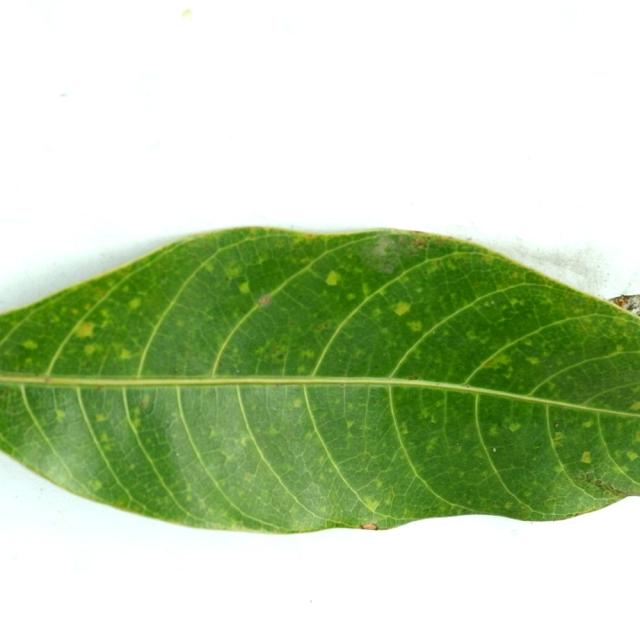Mango: (0, 228, 639, 532)
Powdery_Mildew: (585, 477, 628, 497), (390, 300, 417, 316), (265, 345, 288, 362), (74, 321, 96, 338), (490, 353, 511, 367), (223, 263, 240, 279), (325, 270, 341, 286), (219, 448, 235, 463), (410, 237, 429, 249), (118, 346, 134, 360), (364, 497, 380, 511), (256, 294, 272, 308), (312, 320, 332, 331), (20, 339, 38, 350), (83, 344, 99, 356), (237, 280, 250, 294), (426, 436, 439, 450), (407, 320, 422, 332), (361, 281, 372, 297), (299, 231, 320, 239), (300, 349, 315, 360), (580, 451, 592, 464), (128, 298, 141, 310), (238, 434, 250, 447), (544, 381, 557, 393), (197, 498, 209, 511), (266, 425, 280, 436), (359, 522, 378, 530), (54, 409, 66, 421), (243, 472, 256, 483), (525, 356, 540, 365), (487, 425, 499, 436), (553, 432, 565, 443), (203, 262, 215, 273), (508, 422, 521, 432), (208, 427, 219, 438), (131, 417, 141, 429), (371, 307, 382, 317), (296, 364, 307, 374), (466, 330, 477, 340), (95, 413, 107, 422), (399, 423, 408, 435), (509, 297, 521, 306), (293, 398, 303, 408), (345, 419, 355, 429), (92, 480, 102, 490), (100, 309, 110, 319), (304, 431, 314, 441), (23, 357, 33, 367), (182, 8, 192, 18), (616, 296, 626, 306), (582, 419, 593, 428), (0, 390, 9, 401), (100, 433, 110, 442), (142, 394, 151, 404), (374, 479, 383, 489), (132, 407, 141, 417), (620, 465, 630, 474), (614, 345, 625, 353), (319, 504, 328, 513), (346, 293, 356, 301), (555, 464, 565, 472), (474, 450, 484, 458), (380, 327, 390, 335), (175, 319, 185, 327), (406, 374, 419, 380), (319, 472, 327, 481), (633, 451, 640, 461), (346, 402, 354, 410), (430, 415, 437, 424), (504, 502, 513, 509), (634, 401, 640, 411), (43, 376, 51, 383), (171, 366, 178, 374), (95, 385, 103, 392), (416, 287, 423, 294), (465, 384, 471, 389), (339, 383, 346, 387), (275, 383, 282, 387), (637, 433, 640, 442), (554, 423, 559, 428), (493, 447, 496, 452)
